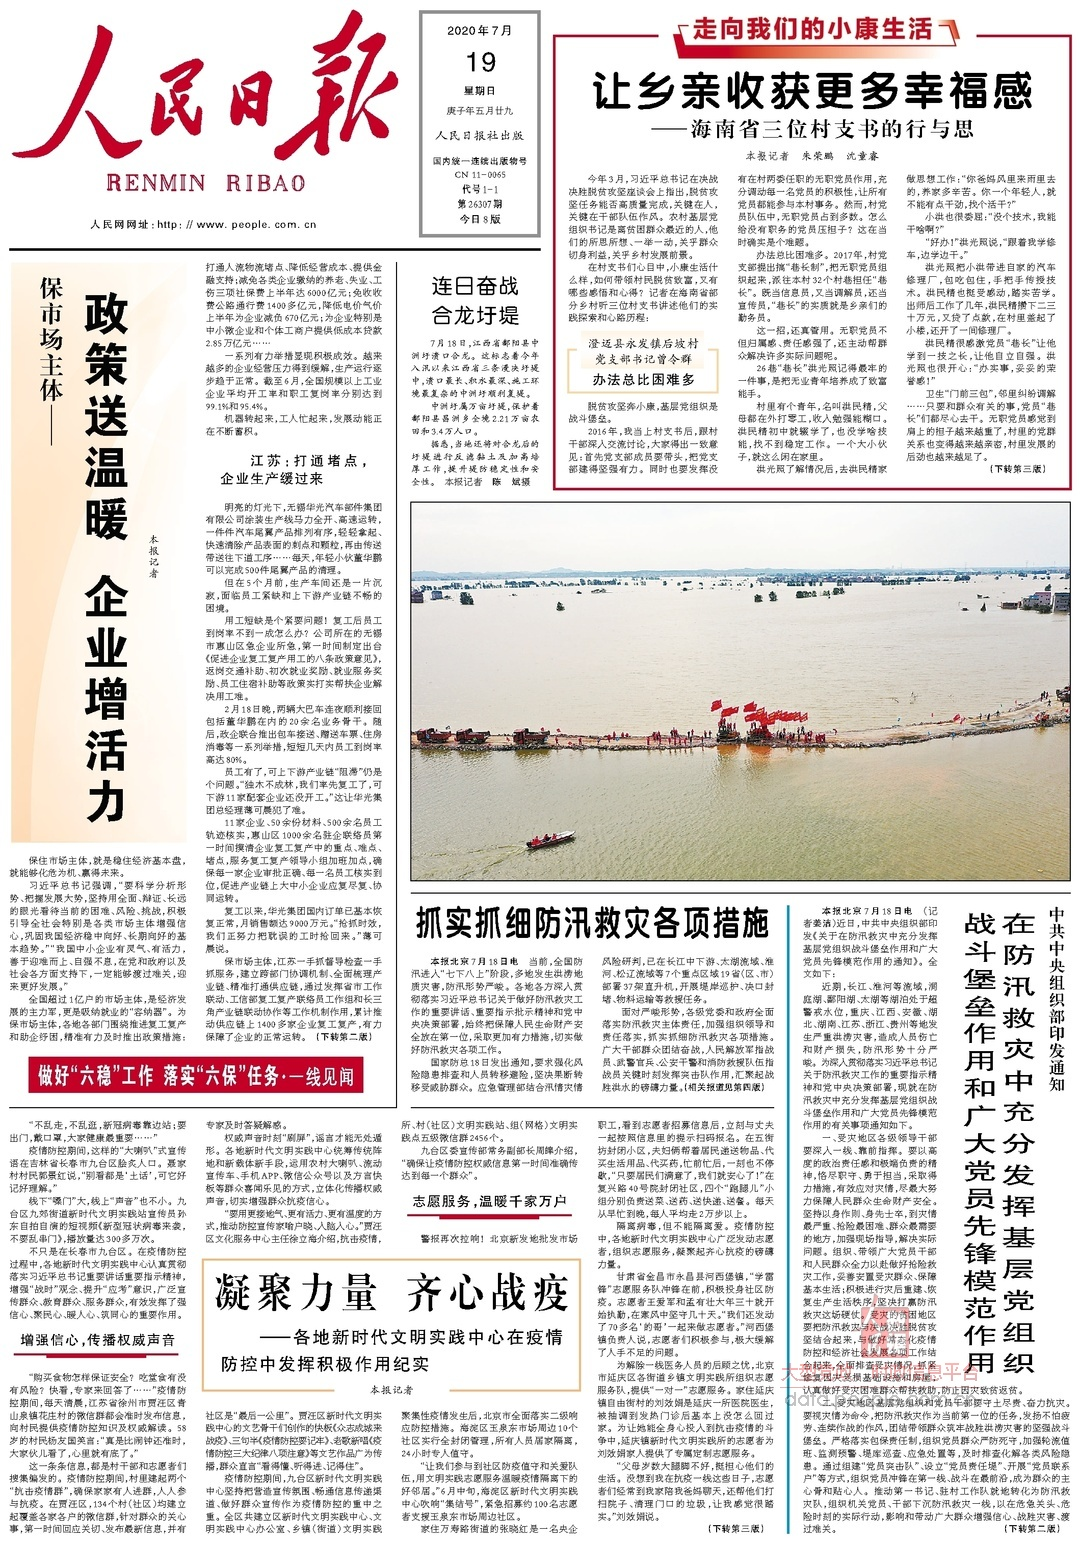pic: (405, 497, 1076, 888)
